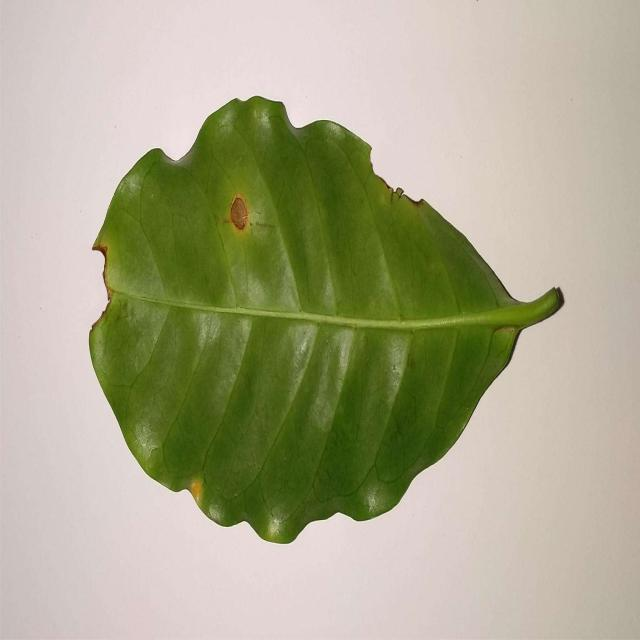Enfermedad-Mancha-de-hierro: (88, 96, 565, 549)
